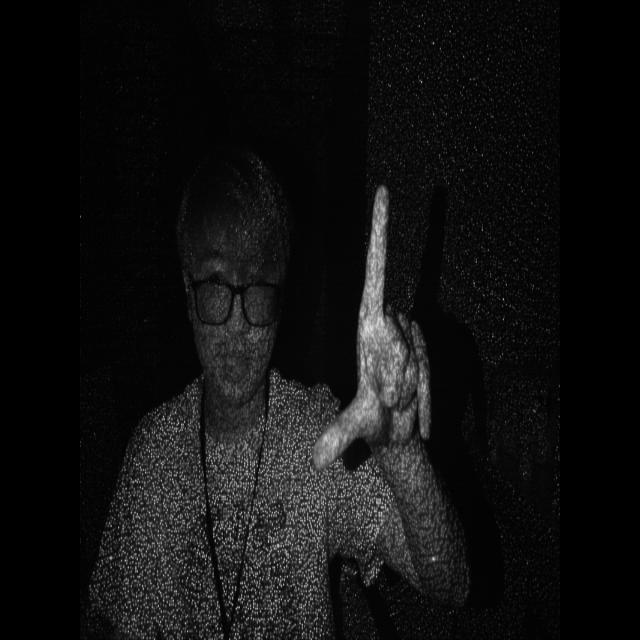L: (311, 169, 444, 483)
